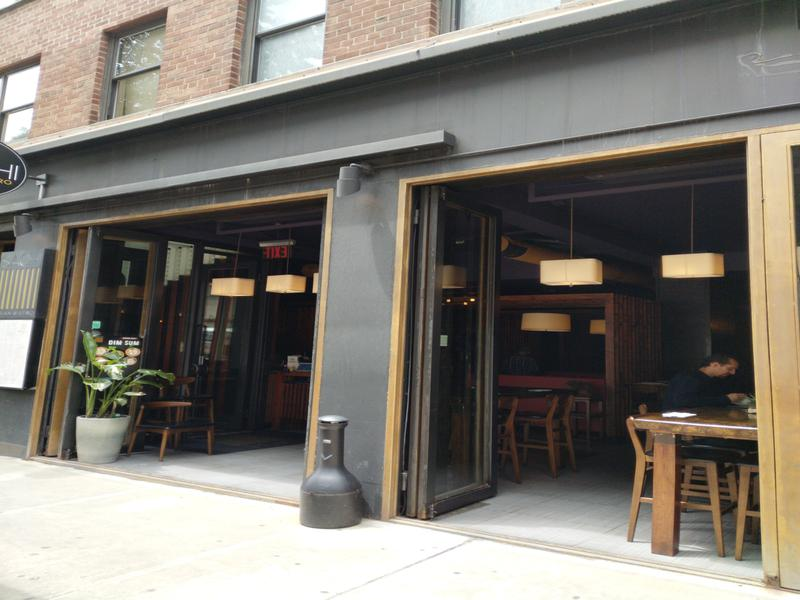door: (422, 178, 504, 523)
